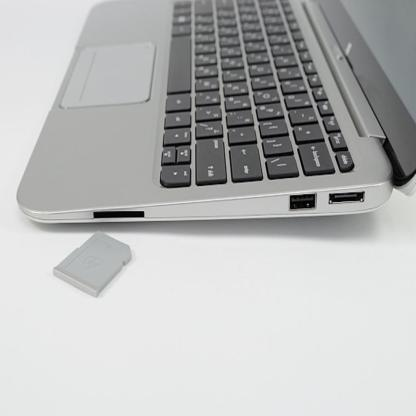board: (15, 0, 416, 223)
